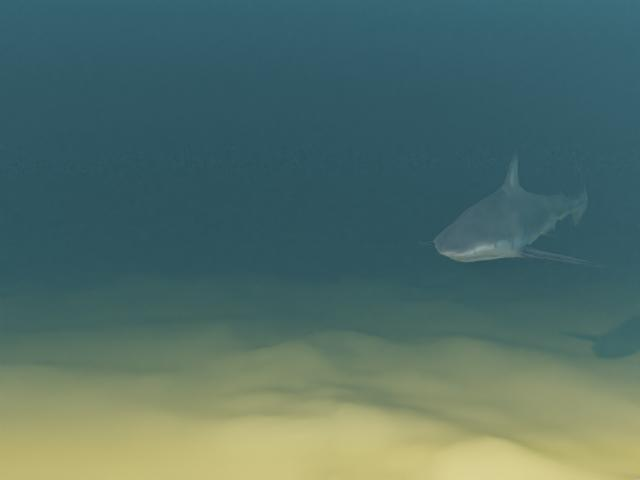Carribean Shark.001: (418, 150, 605, 267)
